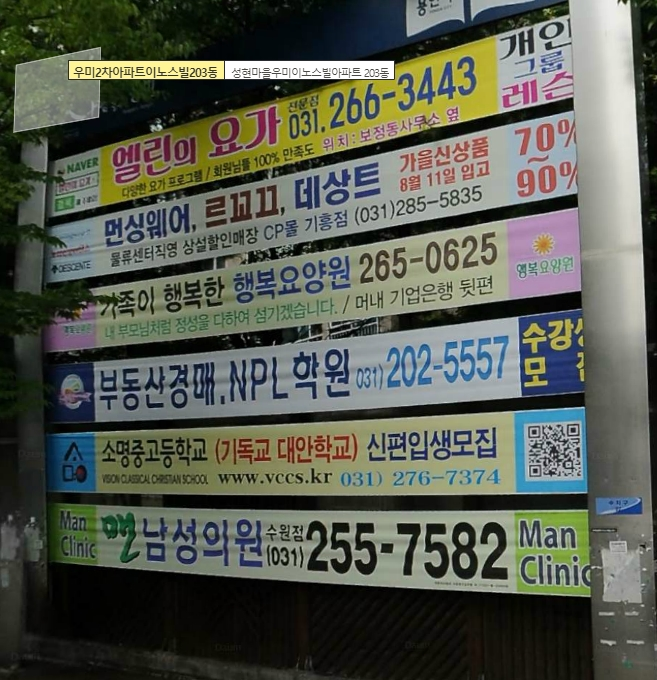banner: (42, 14, 578, 227), (42, 111, 586, 290), (40, 205, 581, 365), (39, 302, 588, 436), (42, 403, 584, 507), (40, 498, 594, 597)
